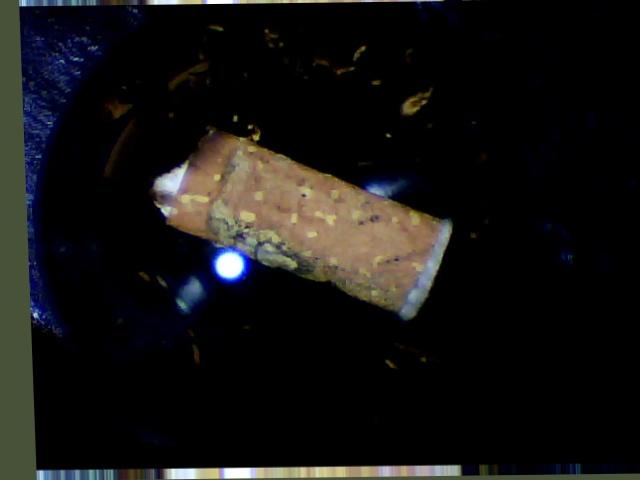megot: (139, 116, 464, 335)
